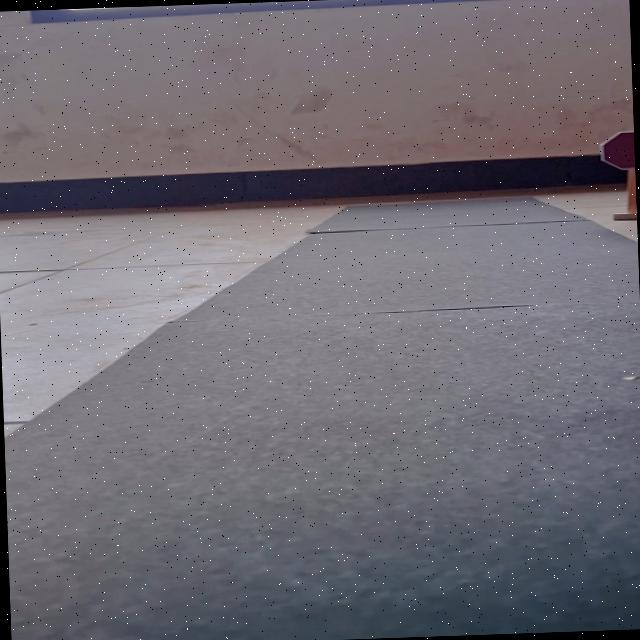Stop: (598, 129, 634, 170)
